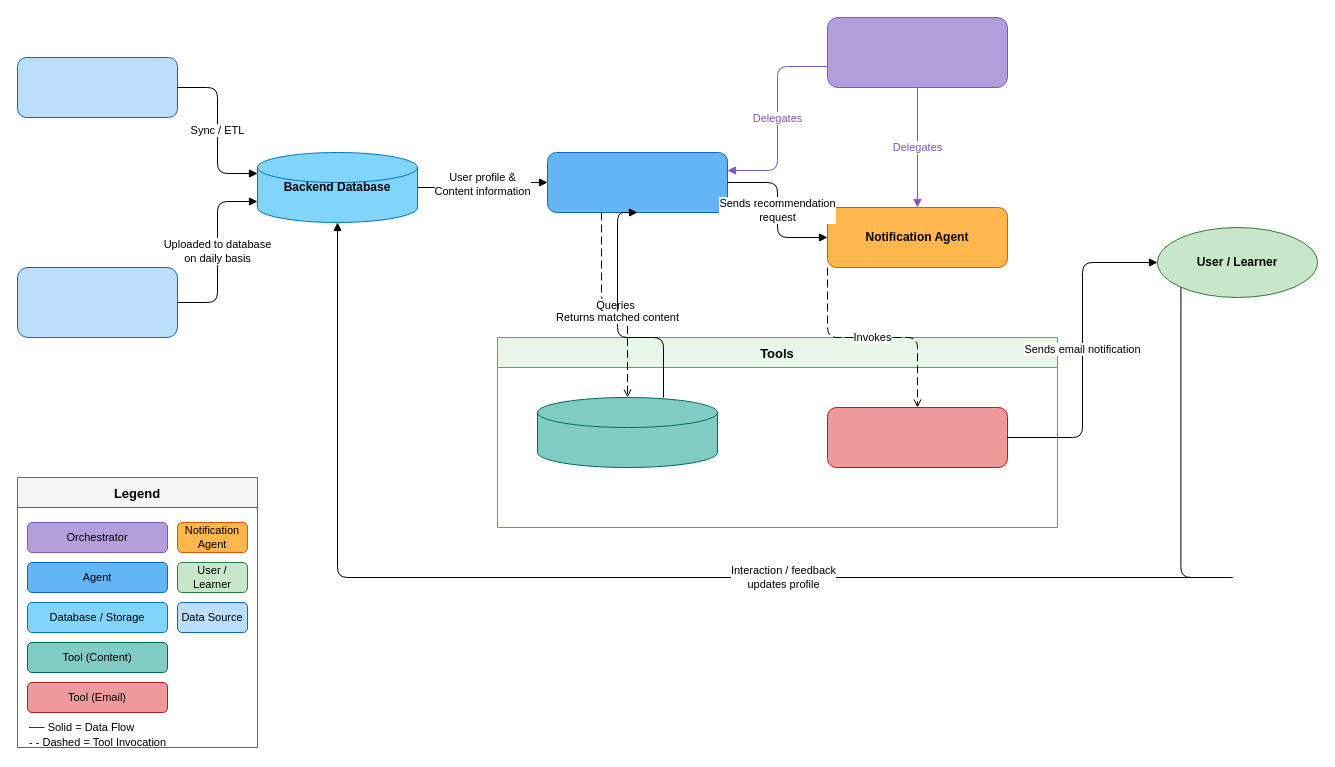
Some shapes in this 1335 by 767 pixel diagram are drawn without their labels. The box of each missing label's shape, as (x1, y1, x2, y2) in pixels:
Email Tool: (826, 406, 1008, 468)
Manager Agent (Orchestrator): (826, 16, 1008, 88)
Pathways and Journey Progress Report: (16, 266, 178, 338)
Recommendation Agent: (546, 152, 728, 212)
Semantic DB (Content): (536, 396, 718, 468)
Users Data: (16, 56, 178, 118)
